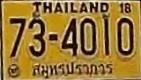0: (117, 17, 133, 55), (80, 18, 95, 54)
1: (104, 18, 109, 56)
3: (28, 18, 44, 56)
4: (61, 17, 77, 55)
7: (9, 17, 25, 57)
SPK: (30, 61, 116, 78)
